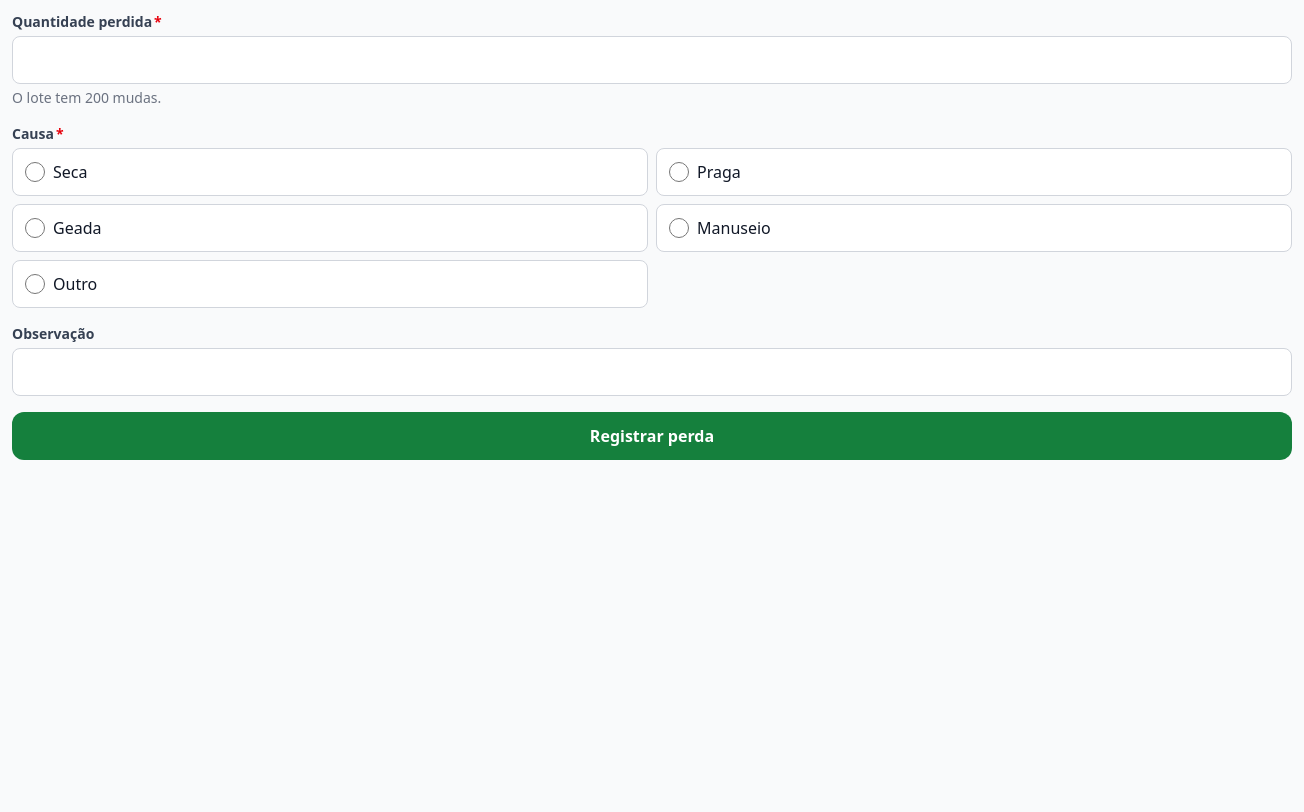
PerdaForm (T4.5, T9.3) › guarda no aparelho antes de enviar, com o rótulo que o indicador mostra
This screenshot has width=1304, height=812.
Type "30" into the field labelled "Quantidade perdida" at (652, 60), box [12,36,1292,84]
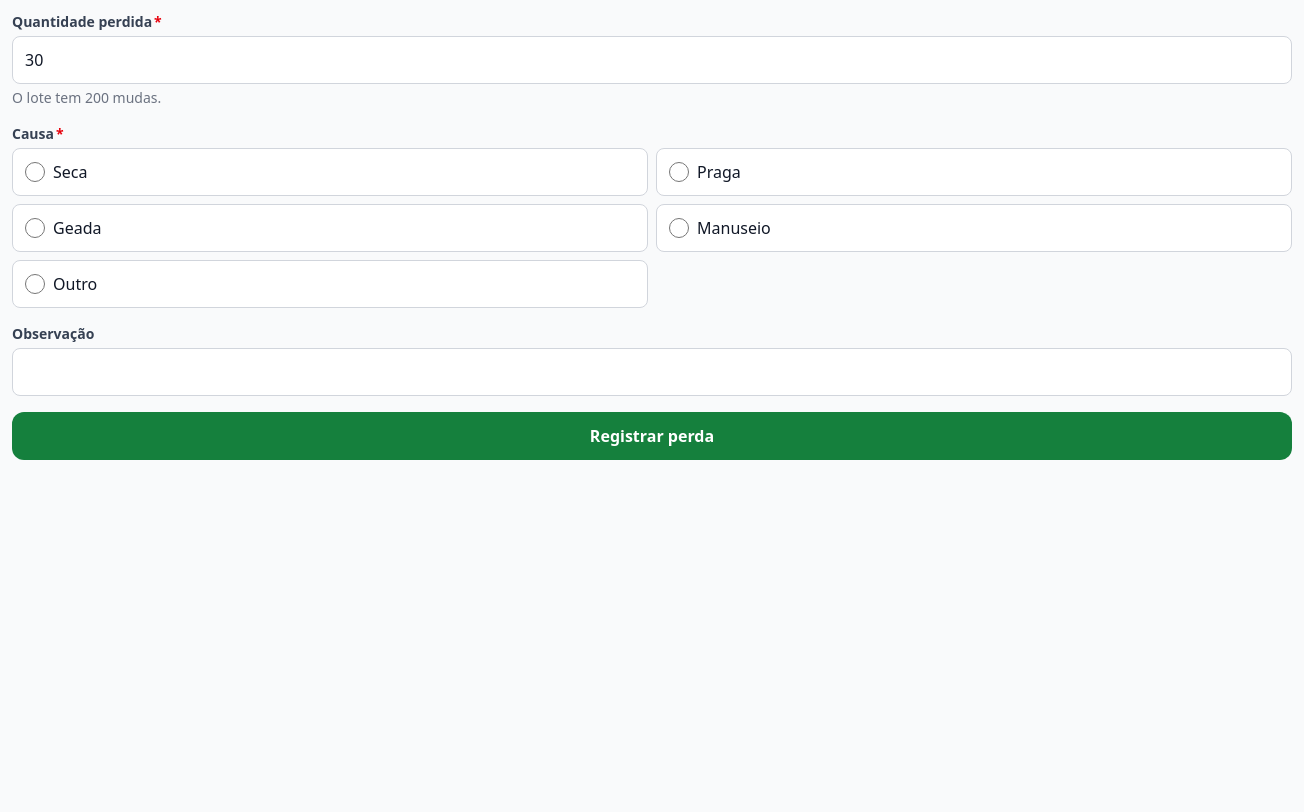
Click the radio button labelled "Seca" at (35, 172), box [25,162,45,182]
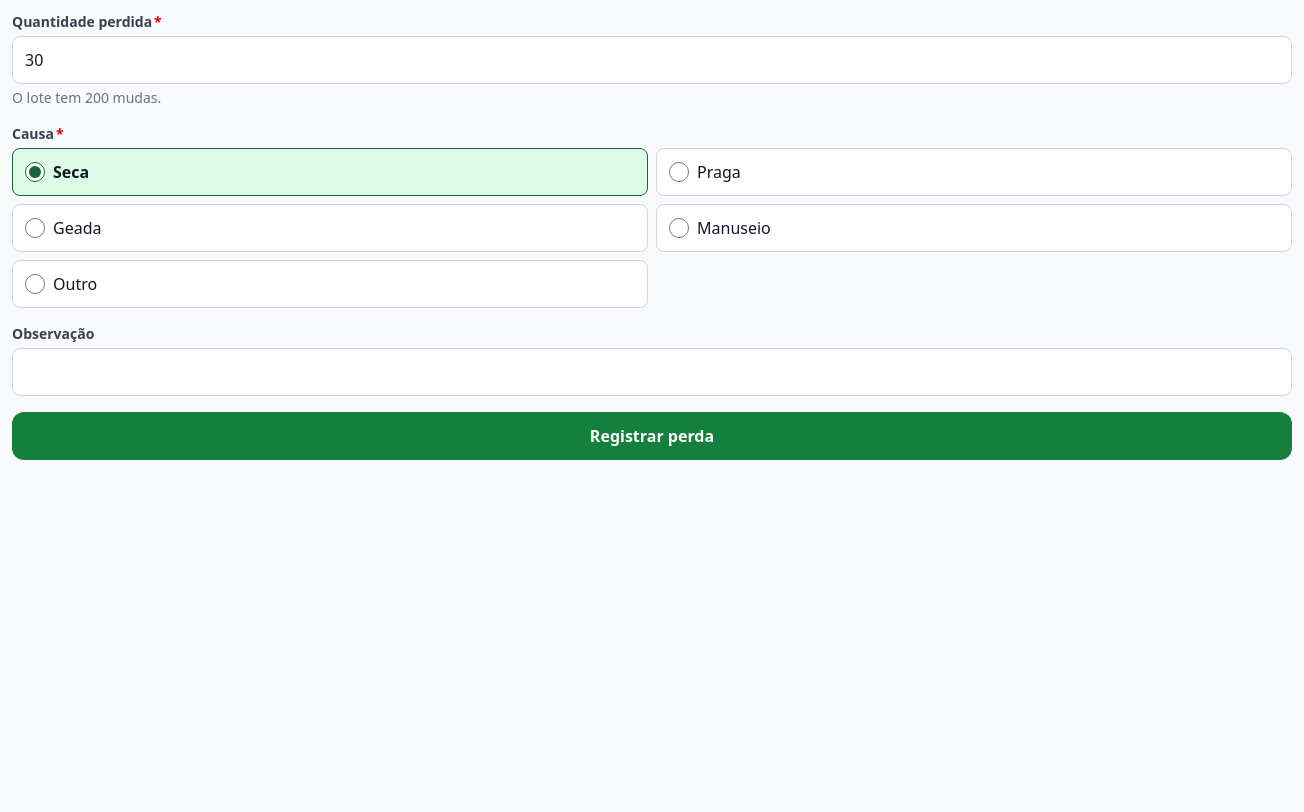
Click the button "Registrar perda" at (652, 436), box [12,412,1292,460]
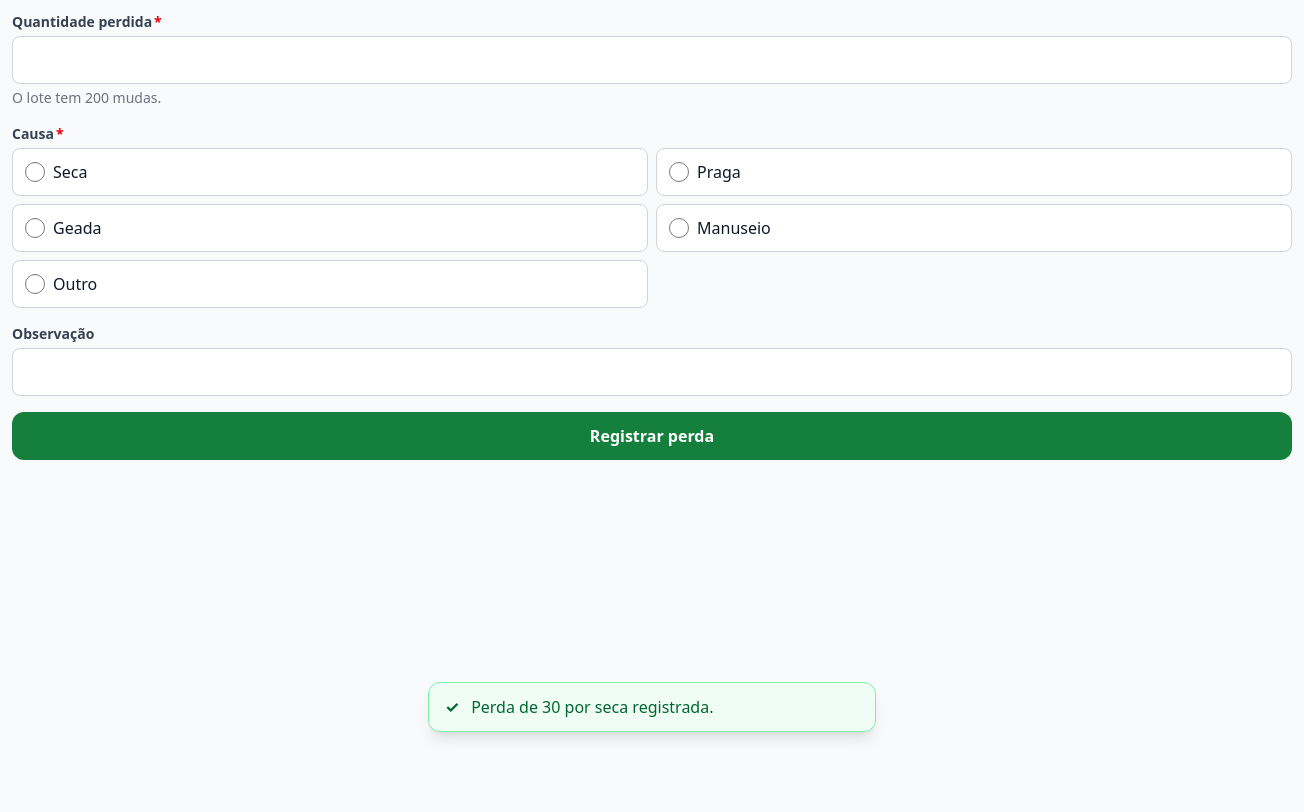
expect the text "Perda de 30 por seca registrada." is shown: met, box [471,695,713,719]
